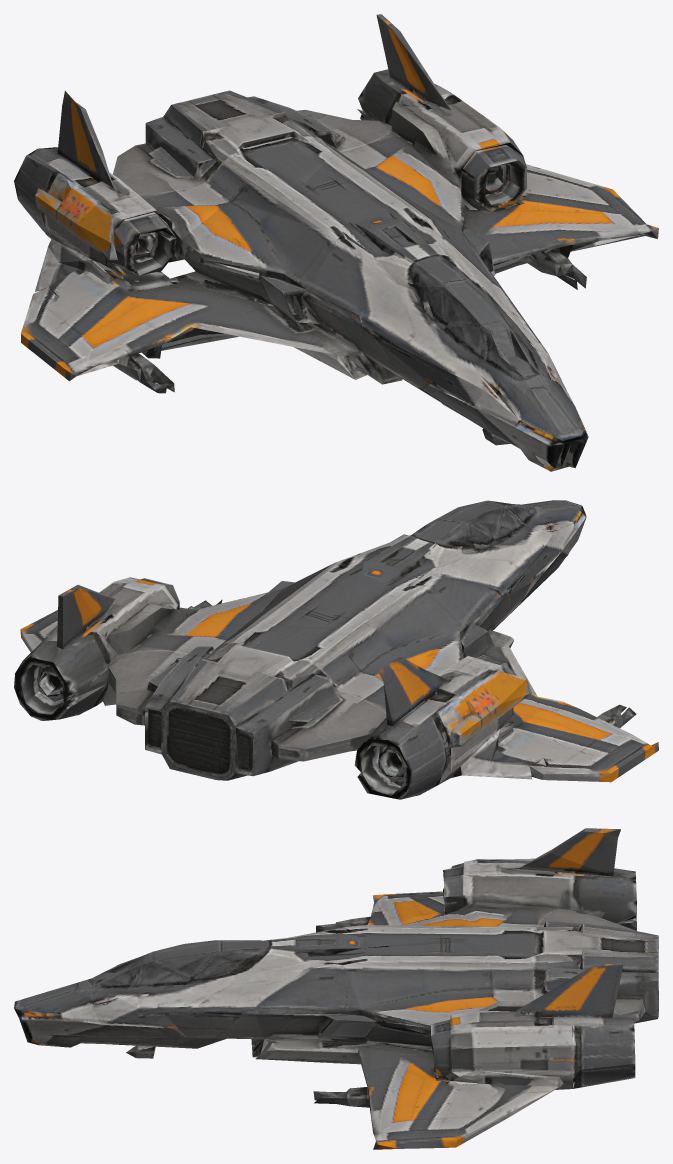
The model's file is hard-2000.glb.
The picture shows the model from 3 angles, top to bottom: view 1: azimuth 30°, elevation 25°; view 2: azimuth 150°, elevation 25°; view 3: azimuth 270°, elevation 25°; orthographic projection. The views are drawn at different scales.
Parts seen in each view (by area): view 1: Low; view 2: Low; view 3: Low.
Part boxes in pixels (x1=…): Low: x1=14, y1=14, x2=658, y2=471; Low: x1=14, y1=500, x2=658, y2=799; Low: x1=14, y1=828, x2=658, y2=1149.
Bounding box in the file's own units: 0.8939 × 0.2679 × 0.9782.
1 material, 1 textured.
